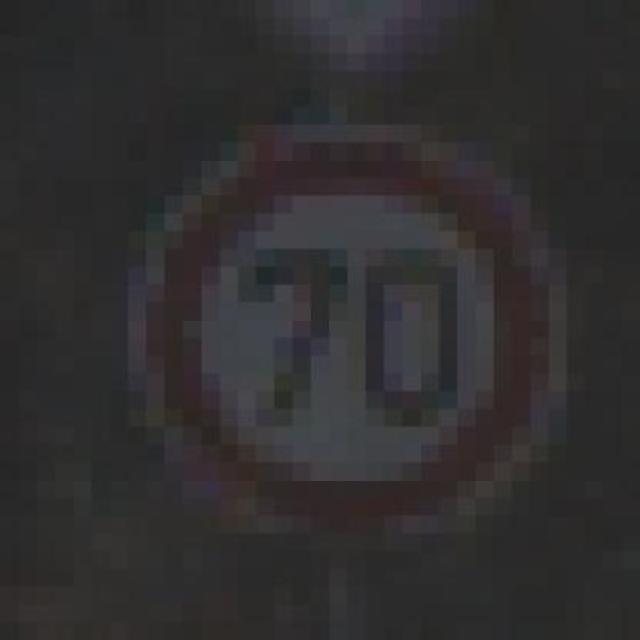forb_speed_over_70: (141, 132, 558, 538)
